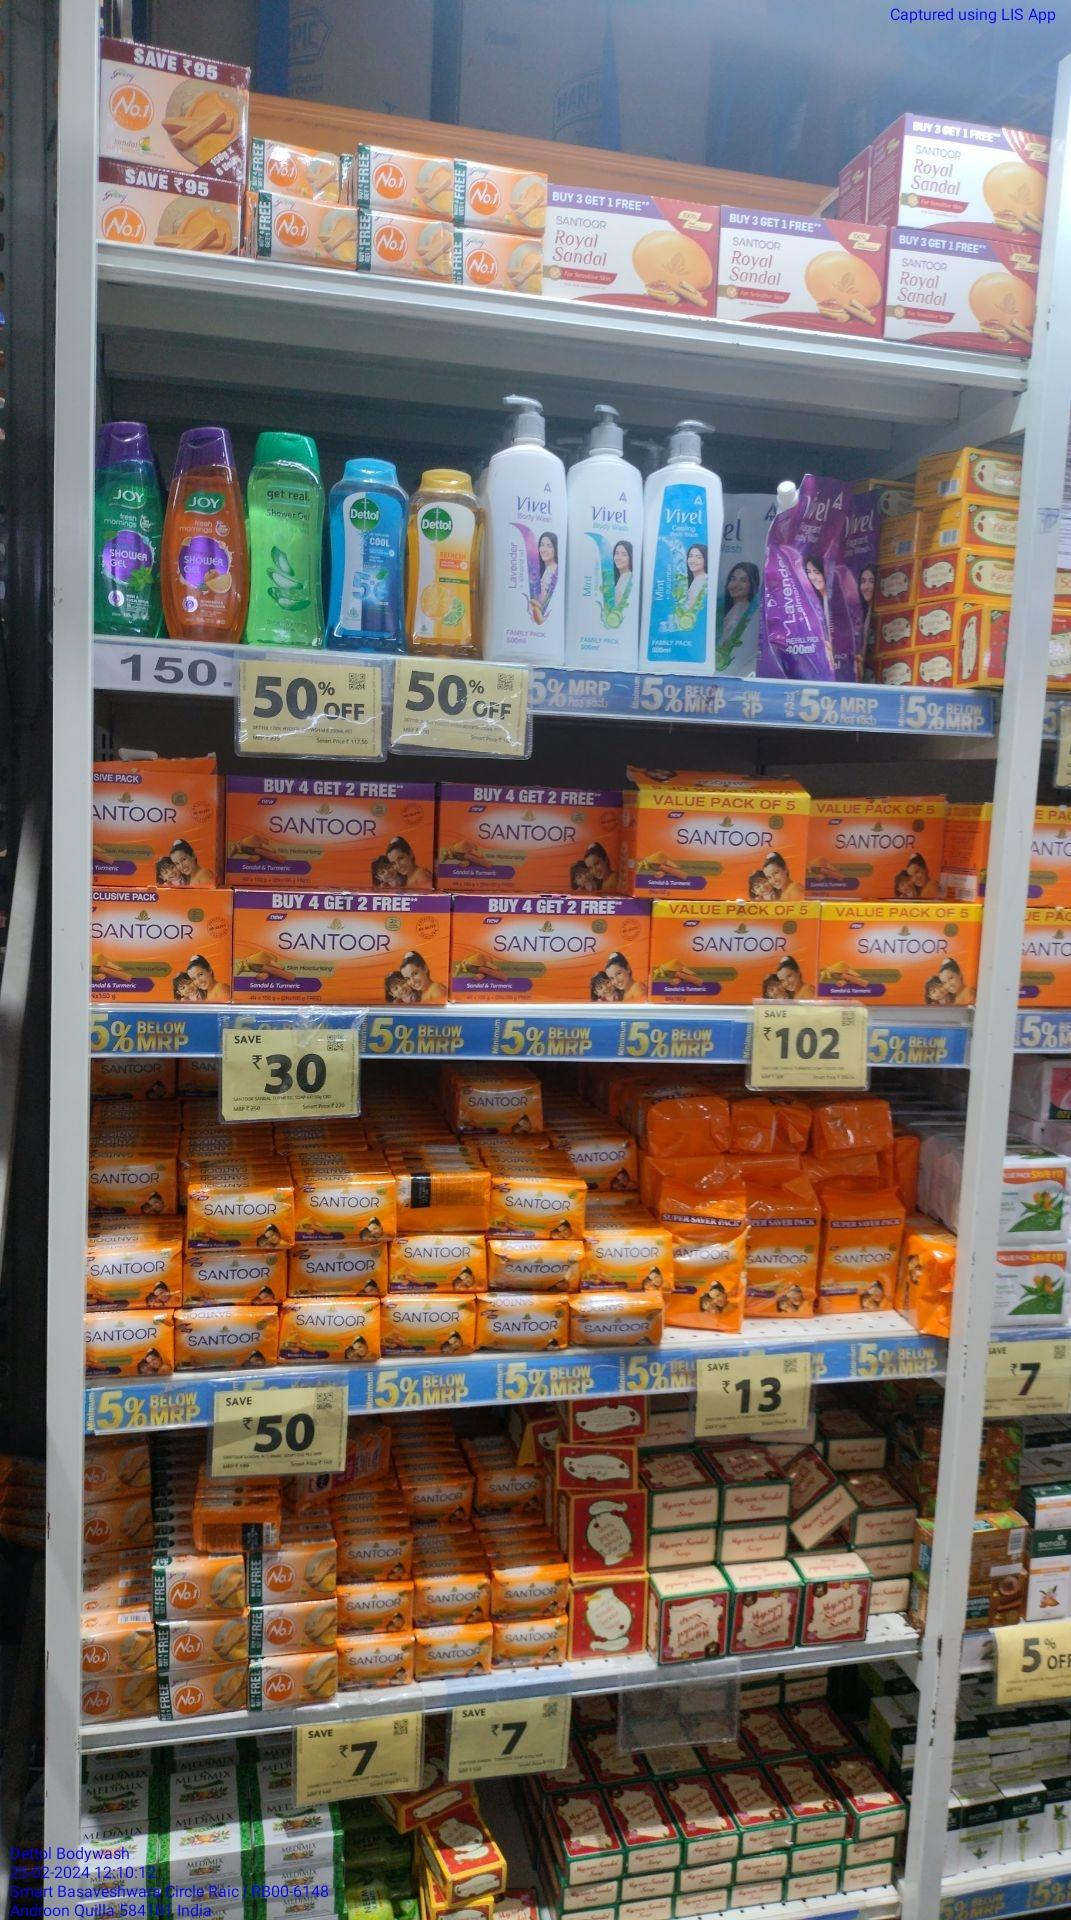Dettol_Bodywash_Cool: (330, 456, 408, 651)
Dettol_Bodywash_Refresh: (413, 469, 483, 658)
Joy_Shower_Gel_Mandarin_and_Lemongrass_250ML: (165, 427, 249, 641)
Joy_Shower_Gel_Mint_and_Eucalyptus_250ML: (100, 423, 162, 633)
